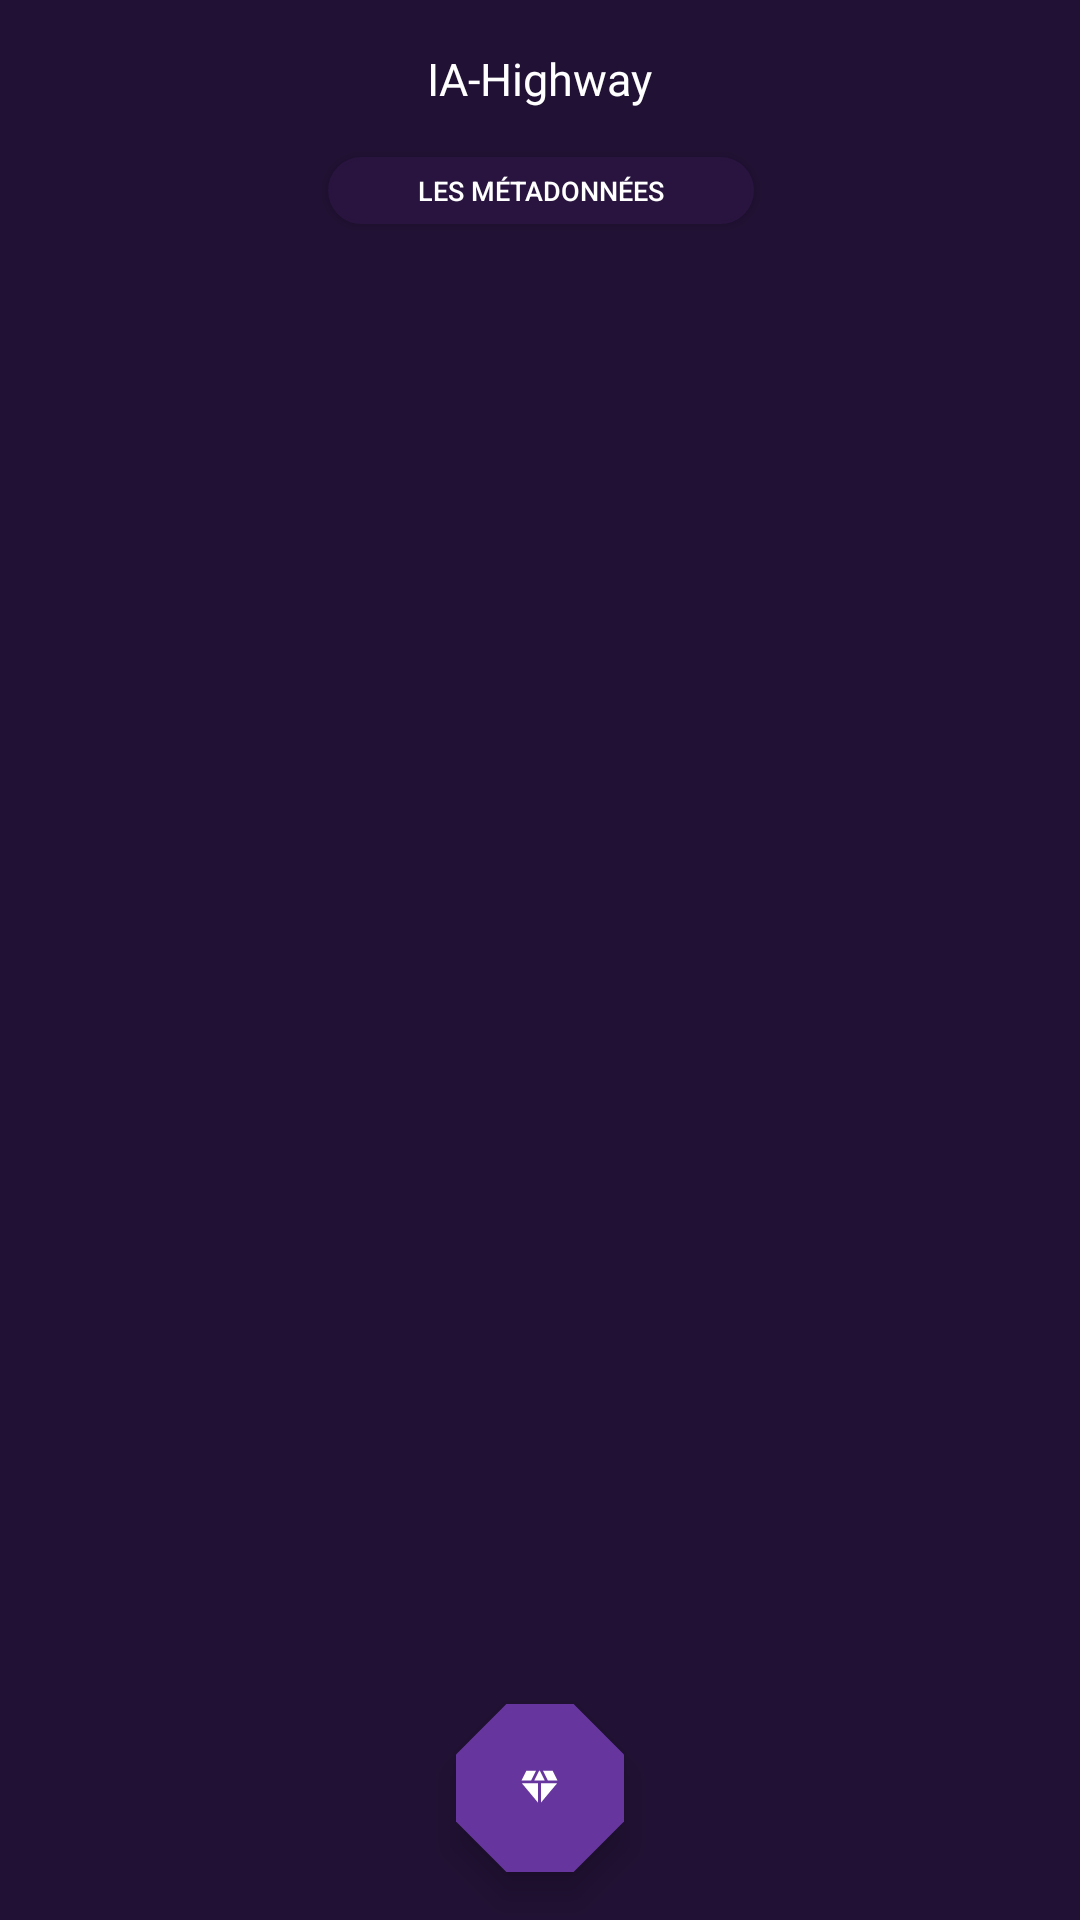

Icon bounding boxes for this 1080×1920 phone screenshot, format box=[x1, y1, x2, y2]:
diamond: box=[456, 1704, 624, 1872]
